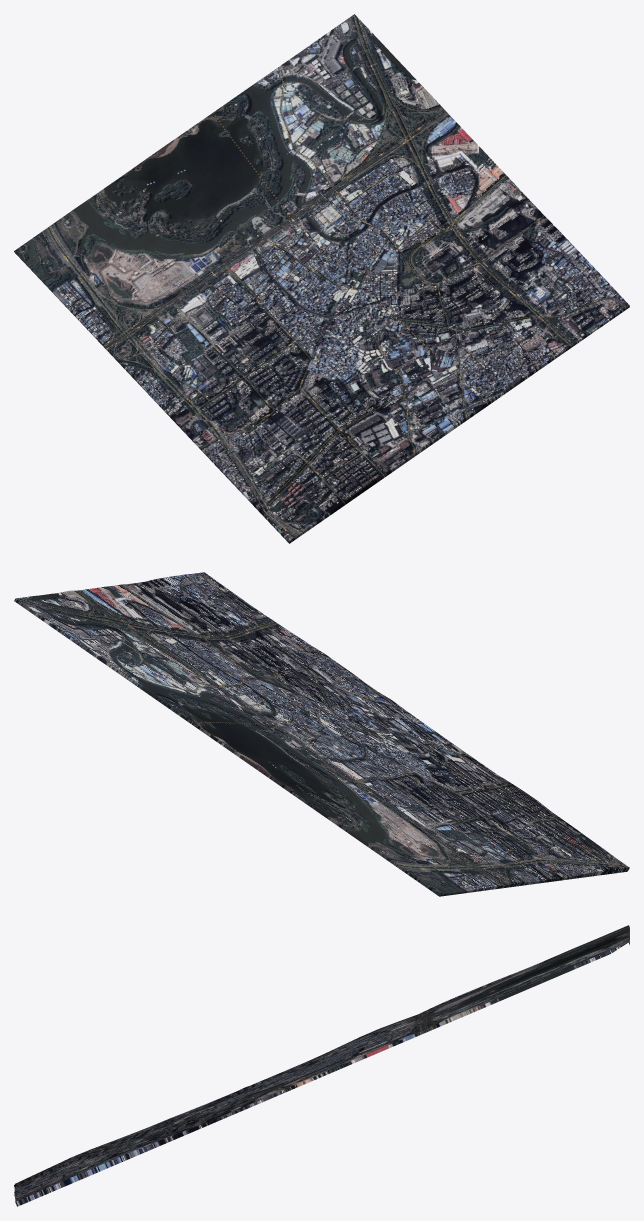
3 renders of one model, top to bottom at view 1: azimuth 30°, elevation 25°; view 2: azimuth 150°, elevation 25°; view 3: azimuth 270°, elevation 25°, orthographic. The views are drawn at different scales.
Visible parts, largest first — view 1: 2_4_5; view 2: 2_4_5; view 3: 2_4_5.
Boxes of the visible parts, x1,y1,x2,y2 form: 2_4_5: (14,14,629,543); 2_4_5: (14,572,629,896); 2_4_5: (14,925,629,1206).
Size of the model in its own units: 2449 by 1778 by 2250.
Materials: 1 (1 with a texture image).
